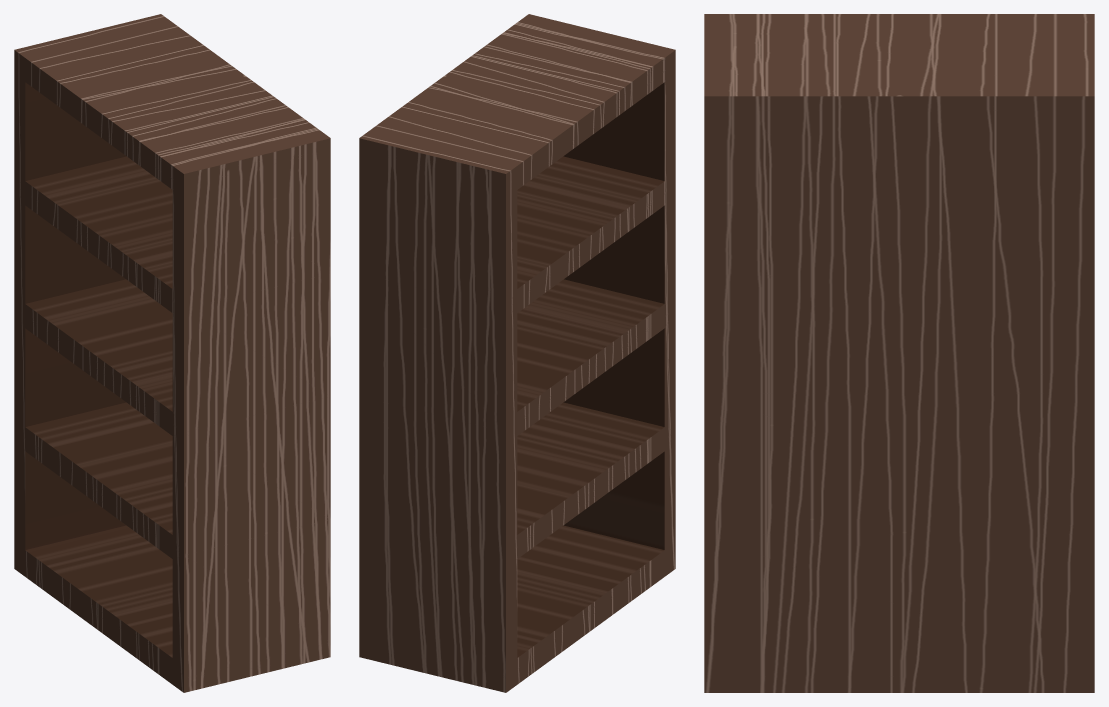
The model's file is cupboard.fbx.
The picture shows the model from 3 angles, left to right: view 1: azimuth 30°, elevation 25°; view 2: azimuth 150°, elevation 25°; view 3: azimuth 270°, elevation 25°; orthographic projection. The views are drawn at different scales.
Visible parts, largest first — view 1: cupboard; view 2: cupboard; view 3: cupboard.
Part boxes in pixels (<box>): cupboard: <box>14,14,330,692</box>; cupboard: <box>359,14,675,692</box>; cupboard: <box>704,14,1094,692</box>.
Bounding box in the file's own units: 50 × 169 × 100.
Materials: 1 (1 with a texture image).
